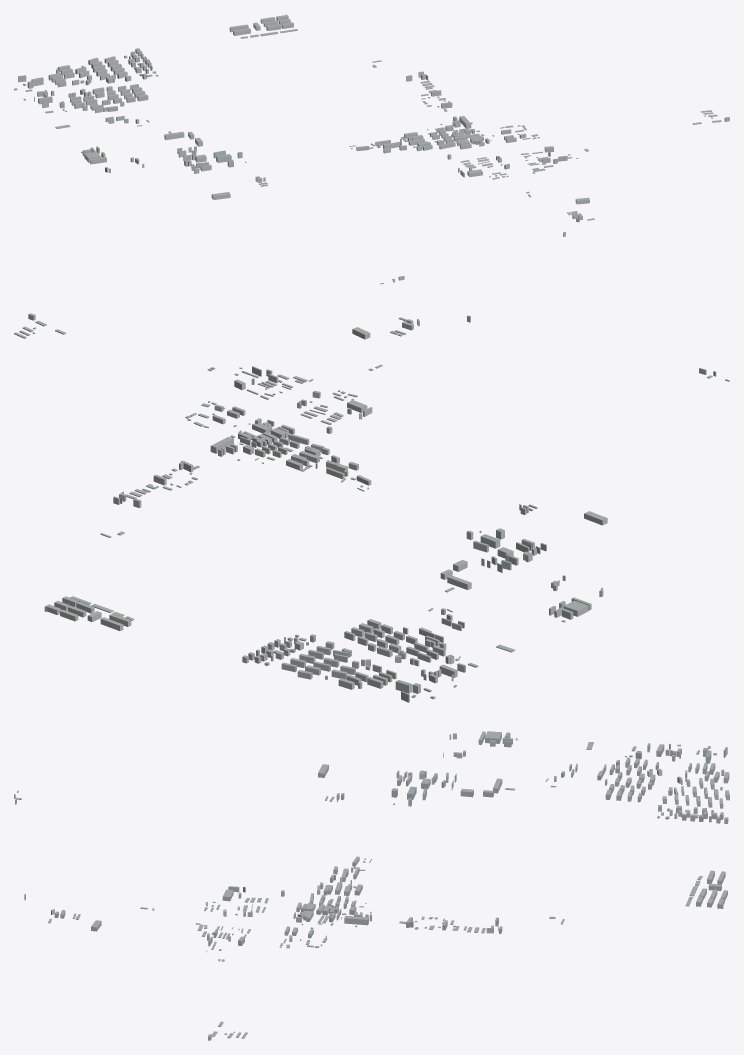
Rendered from far.glb.
The picture shows the model from 3 angles, top to bottom: view 1: azimuth 30°, elevation 25°; view 2: azimuth 150°, elevation 25°; view 3: azimuth 270°, elevation 25°; orthographic projection. The views are drawn at different scales.
Size of the model in its own units: 2094 by 22.45 by 2080.
